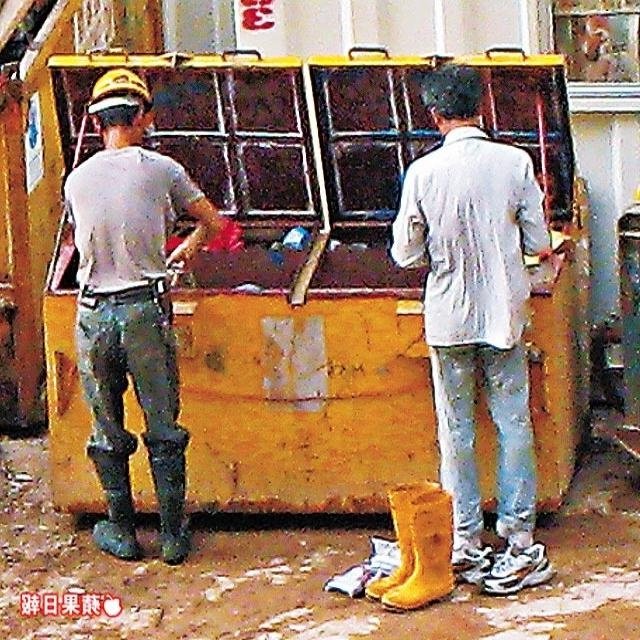Con_Casco: (84, 70, 151, 145)
Sin_Casco_Mascarrilla: (422, 65, 483, 131)
